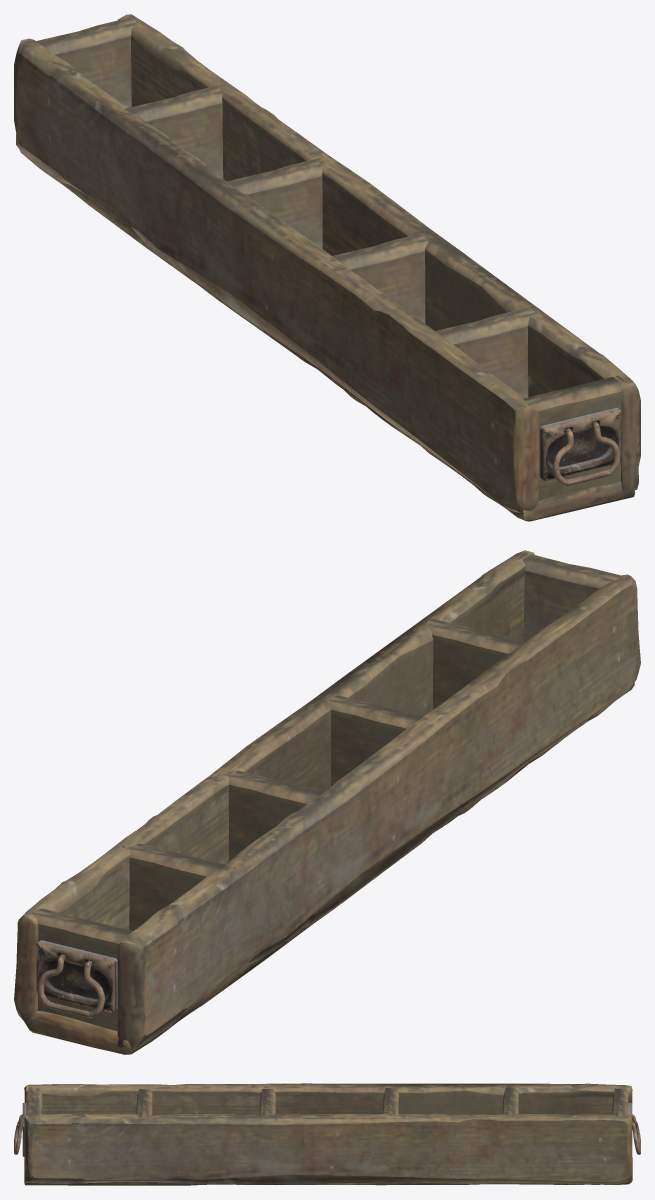
File: SM_Organiser.gltf
3 renders of one model, top to bottom at view 1: azimuth 30°, elevation 25°; view 2: azimuth 150°, elevation 25°; view 3: azimuth 270°, elevation 25°, orthographic. The views are drawn at different scales.
Parts seen in each view (by area): view 1: SM_Organiser_LOD0; view 2: SM_Organiser_LOD0; view 3: SM_Organiser_LOD0.
Part boxes in pixels (x1,y1,x2,y2): SM_Organiser_LOD0: [14, 14, 640, 521]; SM_Organiser_LOD0: [14, 550, 640, 1054]; SM_Organiser_LOD0: [14, 1083, 640, 1185].
Size of what is drawn, in the model's own units: 0.169 by 0.1473 by 1.2.
